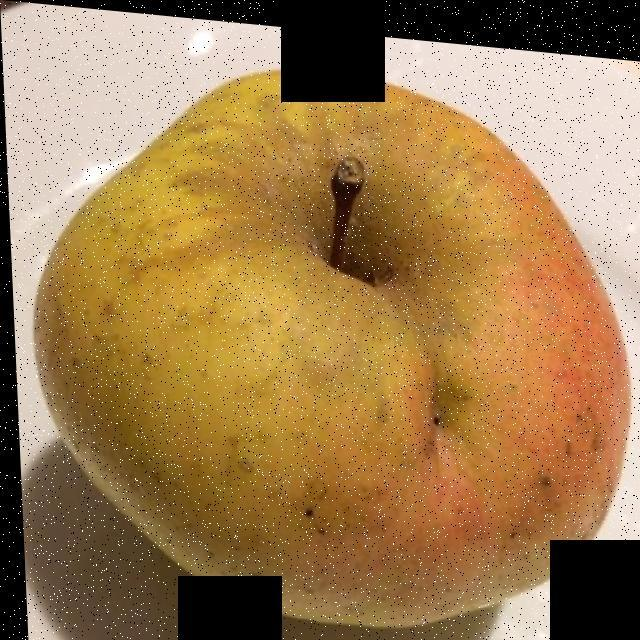apple: (34, 70, 609, 577)
